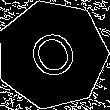O_SE: (21, 22, 84, 87)
